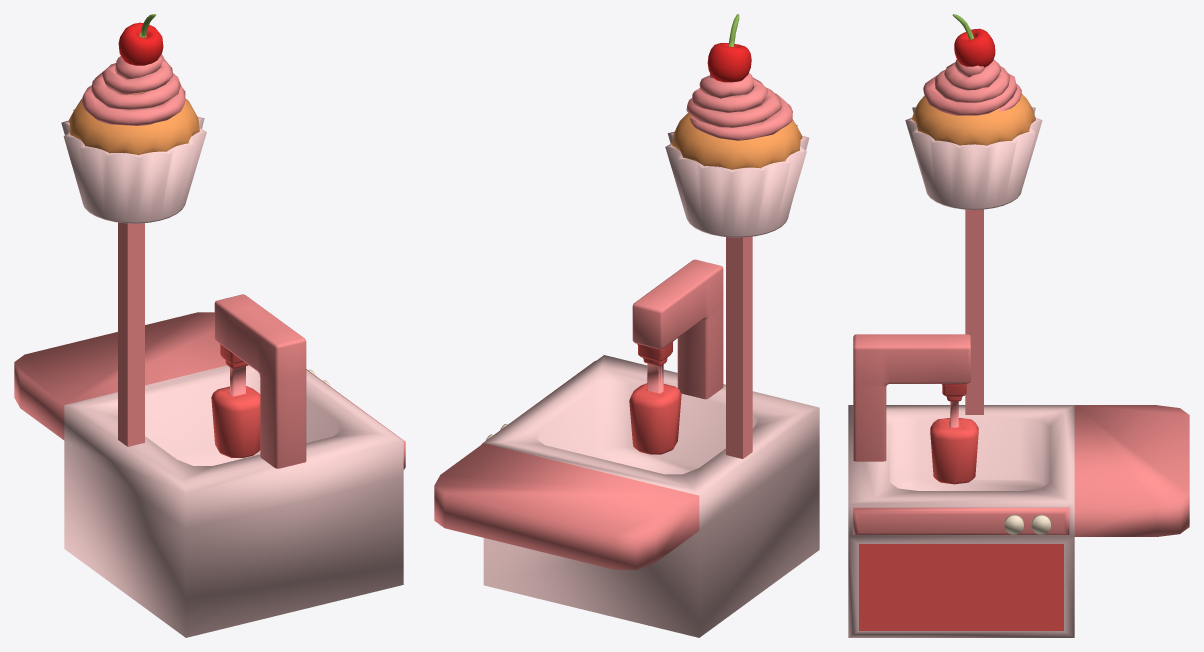
The model's file is Cupcake-Machine.fbx.
3 renders of one model, left to right at view 1: azimuth 30°, elevation 25°; view 2: azimuth 150°, elevation 25°; view 3: azimuth 270°, elevation 25°, orthographic. The views are drawn at different scales.
Parts seen in each view (by area): view 1: Cupcake-Machine; view 2: Cupcake-Machine; view 3: Cupcake-Machine.
Boxes of the visible parts, x1,y1,x2,y2 form: Cupcake-Machine: (14,14,405,637); Cupcake-Machine: (434,14,819,637); Cupcake-Machine: (848,14,1189,637).
Bounding box in the file's own units: 308 × 612 × 353.
